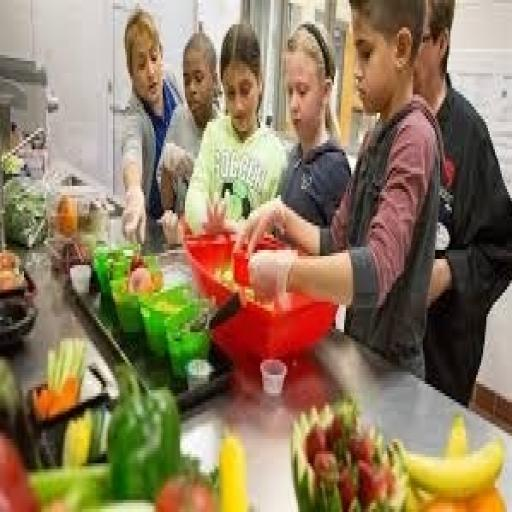eating: (114, 3, 508, 402), (240, 0, 444, 381)
